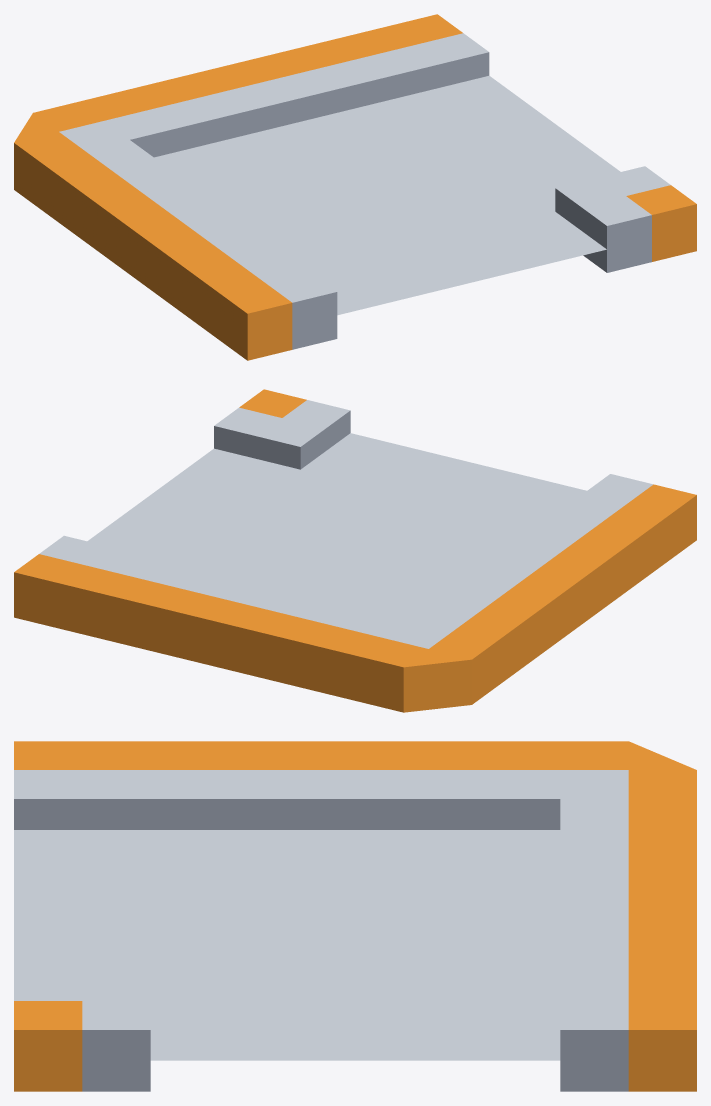
File: platform_corner.fbx
3 renders of one model, top to bottom at view 1: azimuth 30°, elevation 25°; view 2: azimuth 150°, elevation 25°; view 3: azimuth 270°, elevation 25°, orthographic. The views are drawn at different scales.
Visible parts, largest first — view 1: platform_corner; view 2: platform_corner; view 3: platform_corner.
Part boxes in pixels (bbox=[...]): platform_corner: bbox=[14, 14, 696, 360]; platform_corner: bbox=[14, 389, 696, 712]; platform_corner: bbox=[14, 741, 696, 1091].
Bounding box in the file's own units: 10 × 1 × 10.
